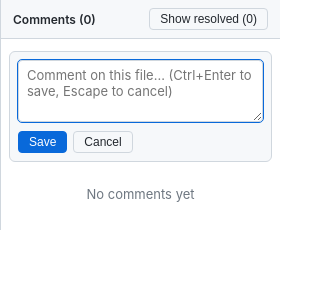
it: CommentsPanel — file-level comment entry (iter 5 group B) › non-typed addComment rejection surfaces inside CommentInput (composer stays open)
Type "binary note" into the text box at (140, 91), box 18,60 -> 263,122
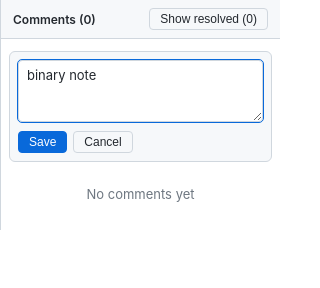
Click the button "Save" at (43, 142), box 18,131 -> 67,153
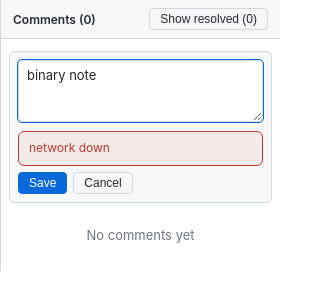
Result: the message reads "network down" at 29,140 -> 110,155
